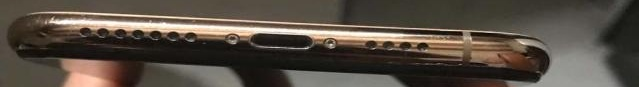scratch: (22, 10, 473, 72)
